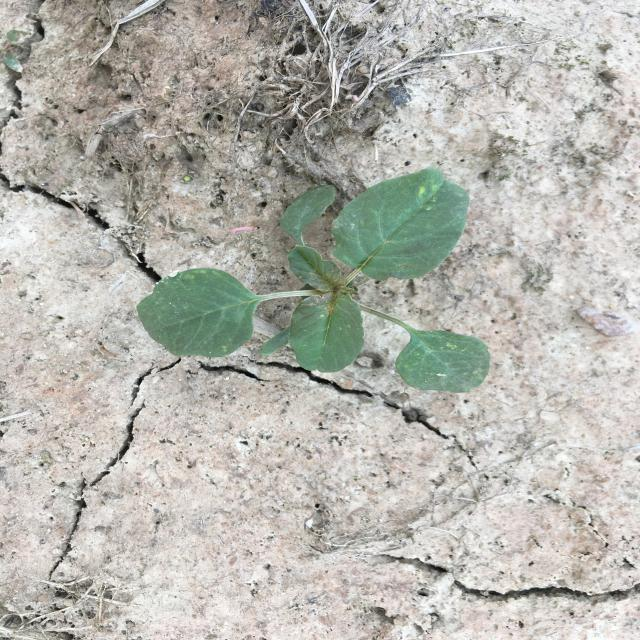PalmerAmaranth: (136, 168, 491, 392)
